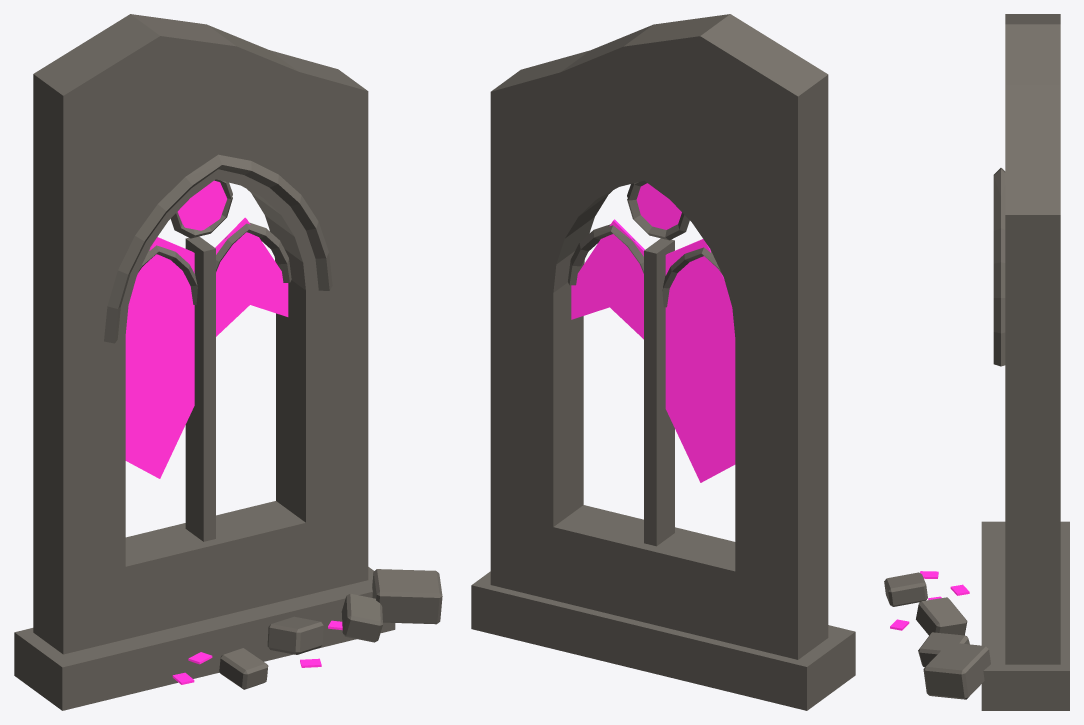
File: vitral_roto.fbx
3 renders of one model, left to right at view 1: azimuth 30°, elevation 25°; view 2: azimuth 150°, elevation 25°; view 3: azimuth 270°, elevation 25°, orthographic. The views are drawn at different scales.
Parts seen in each view (by area): view 1: vitral_roto; view 2: vitral_roto; view 3: vitral_roto.
Boxes of the visible parts, bbox=[...] form: vitral_roto: bbox=[14, 14, 442, 710]; vitral_roto: bbox=[471, 14, 855, 710]; vitral_roto: bbox=[884, 14, 1069, 710].
Size of the model in its own units: 5.28 by 8.8 by 2.52.
